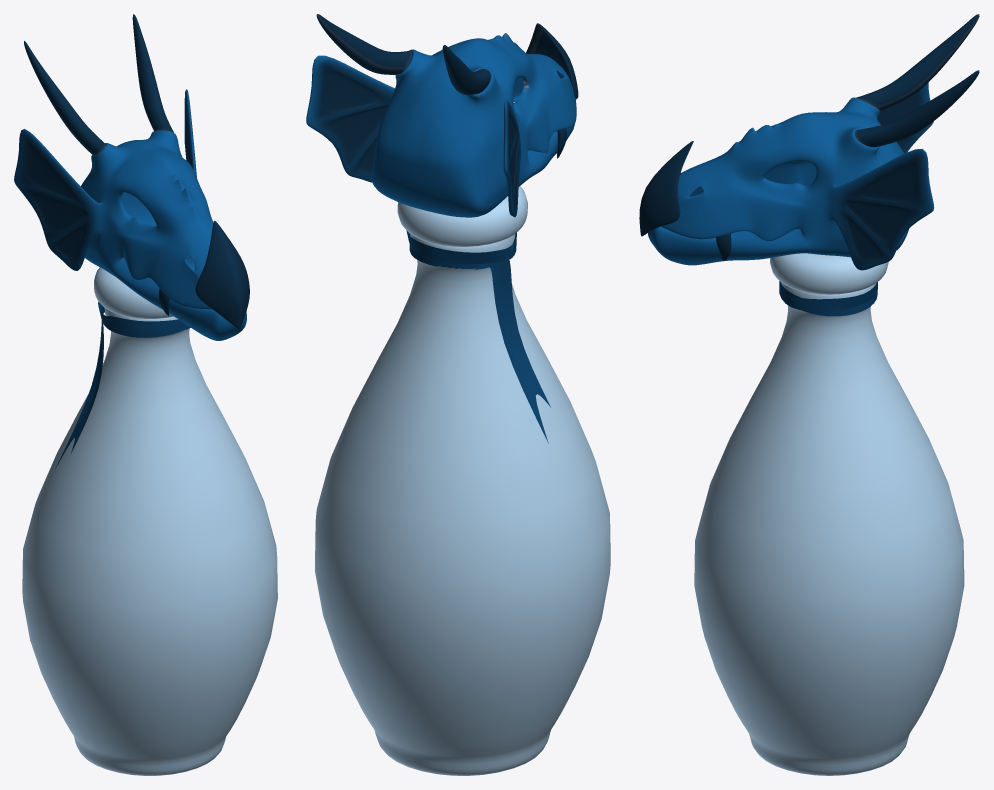
Rendered from dragonBottle.fbx.
The picture shows the model from 3 angles, left to right: view 1: azimuth 30°, elevation 25°; view 2: azimuth 150°, elevation 25°; view 3: azimuth 270°, elevation 25°; orthographic projection. The views are drawn at different scales.
Parts seen in each view (by area): view 1: bottle_low, skul_low, horns_low, frontHorn_low, decoration, cap_low; view 2: bottle_low, skul_low, decoration, cap_low, horns_low, frontHorn_low; view 3: bottle_low, skul_low, horns_low, cap_low, frontHorn_low, decoration.
Part boxes in pixels (bbox=[...]): bottle_low: bbox=[22, 308, 277, 775]; skul_low: bbox=[14, 89, 246, 340]; horns_low: bbox=[24, 14, 173, 155]; frontHorn_low: bbox=[195, 220, 249, 328]; decoration: bbox=[55, 302, 190, 468]; cap_low: bbox=[94, 267, 173, 318]; bottle_low: bbox=[314, 234, 610, 775]; skul_low: bbox=[306, 33, 576, 217]; decoration: bbox=[406, 230, 550, 443]; cap_low: bbox=[397, 186, 527, 246]; horns_low: bbox=[316, 14, 491, 94]; frontHorn_low: bbox=[526, 23, 578, 99]; bottle_low: bbox=[694, 282, 964, 775]; skul_low: bbox=[648, 82, 934, 270]; horns_low: bbox=[854, 14, 979, 147]; cap_low: bbox=[770, 253, 888, 294]; frontHorn_low: bbox=[639, 141, 693, 236]; decoration: bbox=[779, 281, 877, 316].
Size of the model in its own units: 5.97 by 17.19 by 7.51.
